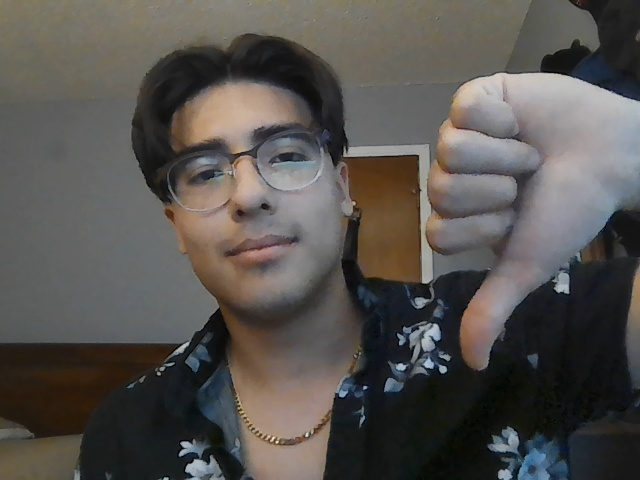ThumbsDown: (425, 72, 640, 371)
